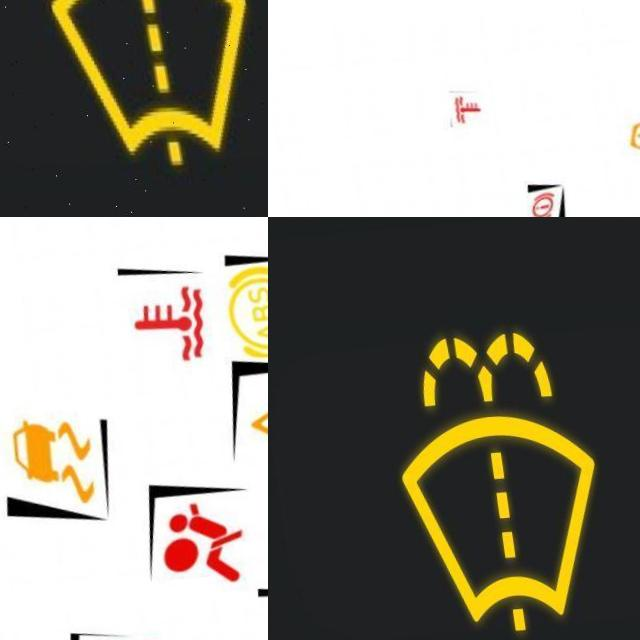Washer Fluid: (375, 332, 603, 640), (24, 0, 260, 180)
